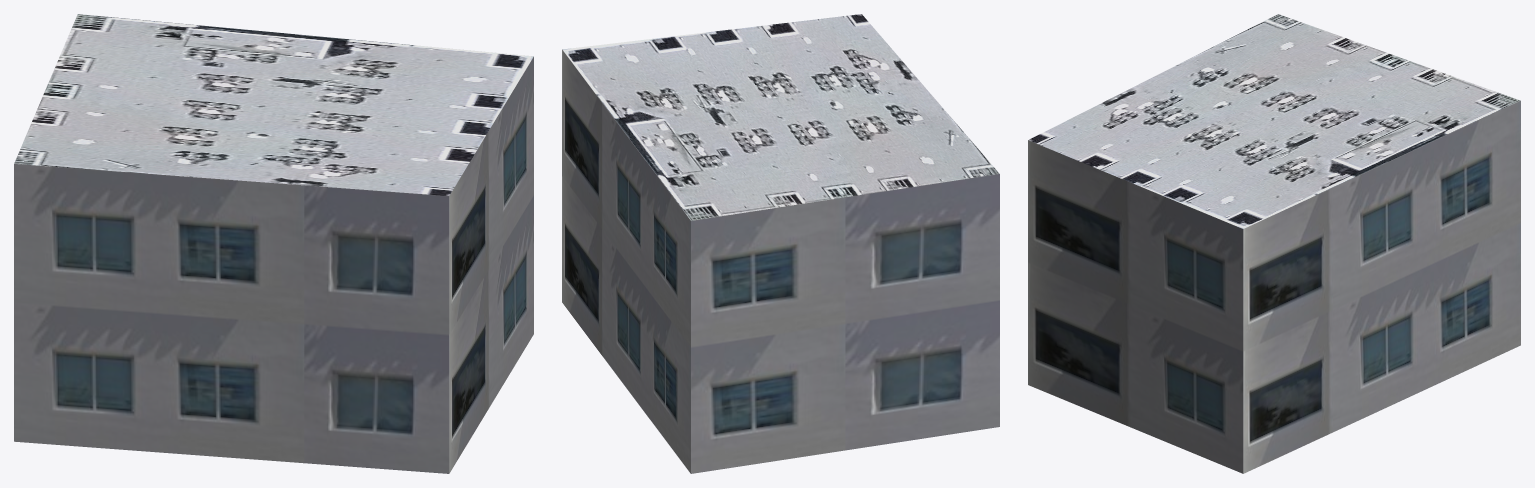
The model's file is ResTex__4241.fbx.
3 renders of one model, left to right at view 1: azimuth 30°, elevation 25°; view 2: azimuth 150°, elevation 25°; view 3: azimuth 270°, elevation 25°, orthographic. The views are drawn at different scales.
Parts seen in each view (by area): view 1: CityEngineMaterial_10_m, CityEngineMaterial_m; view 2: CityEngineMaterial_10_m, CityEngineMaterial_m; view 3: CityEngineMaterial_10_m, CityEngineMaterial_m.
Boxes of the visible parts, x1=… form: CityEngineMaterial_10_m: x1=14, y1=57, x2=533, y2=473; CityEngineMaterial_m: x1=14, y1=14, x2=533, y2=195; CityEngineMaterial_10_m: x1=562, y1=49, x2=999, y2=473; CityEngineMaterial_m: x1=562, y1=14, x2=999, y2=220; CityEngineMaterial_10_m: x1=1028, y1=100, x2=1520, y2=473; CityEngineMaterial_m: x1=1028, y1=14, x2=1520, y2=228.
Size of the model in its own units: 11.3 by 6 by 10.94.
2 materials, 2 textured.
